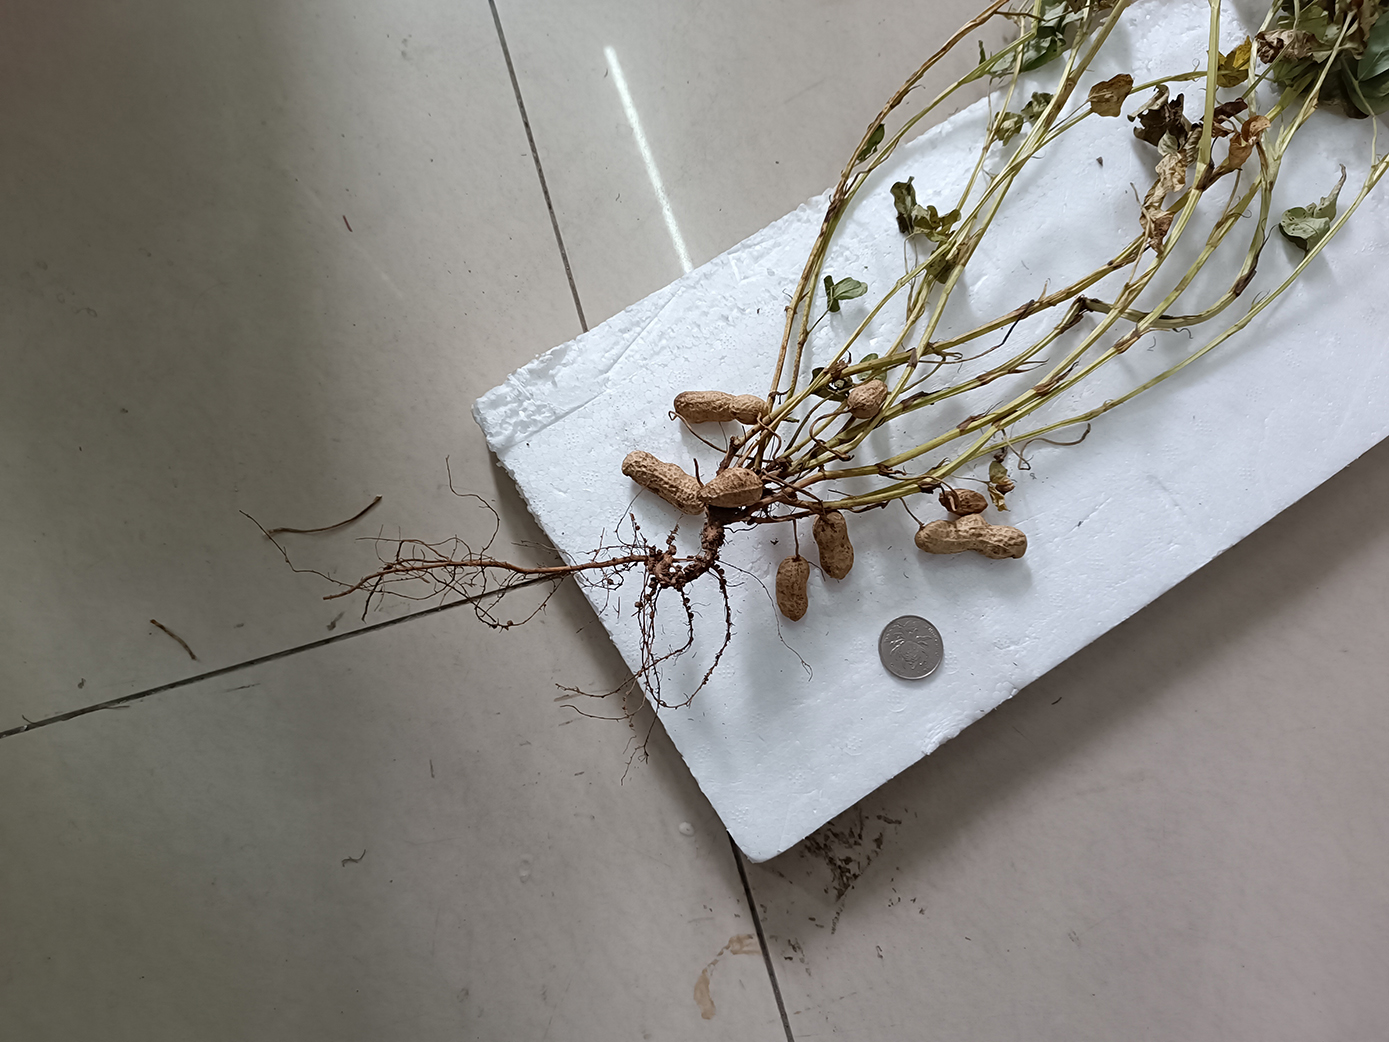h: (621, 449, 701, 513), (917, 516, 1028, 561), (674, 389, 769, 424), (814, 511, 853, 579), (701, 468, 763, 506), (775, 555, 809, 620), (847, 380, 888, 416)
l: (940, 487, 989, 513)
